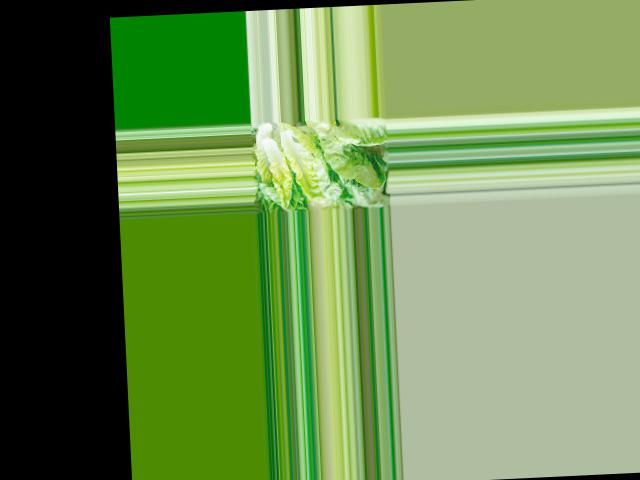lettuce: (253, 118, 344, 207)
